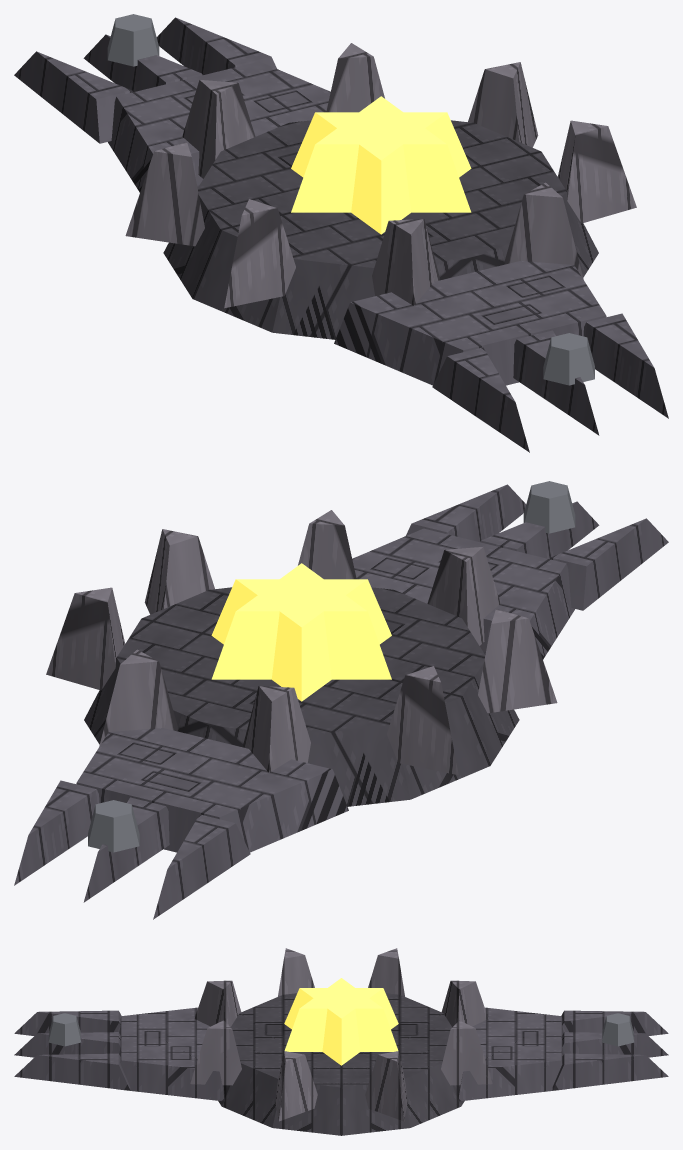
The model's file is crown_ember.glb.
3 views of the same model, one above another, from view 1: azimuth 30°, elevation 25°; view 2: azimuth 150°, elevation 25°; view 3: azimuth 270°, elevation 25° (orthographic). The views are drawn at different scales.
Size of the model in its own units: 41.57 by 12 by 90.
Materials: 7 (4 with a texture image).
